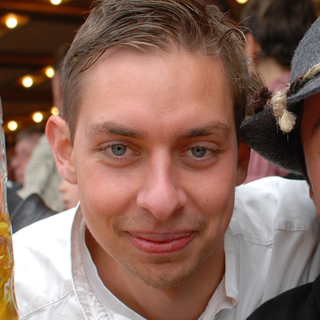eye: (94, 139, 143, 163), (177, 140, 223, 165)
